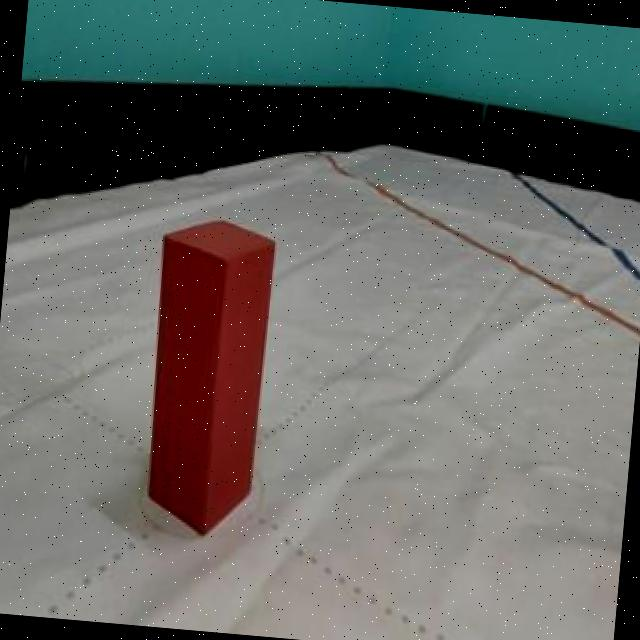redbox: (136, 212, 279, 539)
